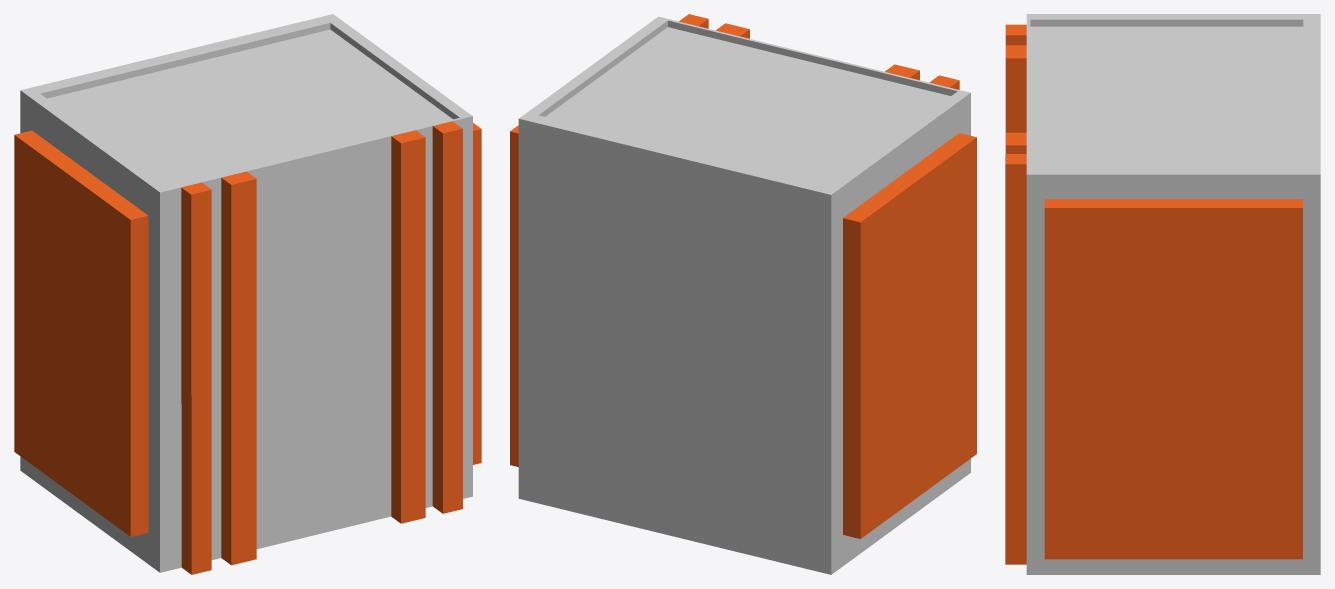
3 views of the same model, side by side, from view 1: azimuth 30°, elevation 25°; view 2: azimuth 150°, elevation 25°; view 3: azimuth 270°, elevation 25° (orthographic). The views are drawn at different scales.
Parts seen in each view (by area): view 1: Cube; view 2: Cube; view 3: Cube.
Boxes of the visible parts, left/top/right/bottom form: Cube: left=14, top=14, right=481, bottom=574; Cube: left=510, top=14, right=976, bottom=574; Cube: left=1005, top=14, right=1320, bottom=574.
Bounding box in the file's own units: 1278 × 1336 × 954.
